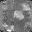people: (13, 10, 24, 20)
